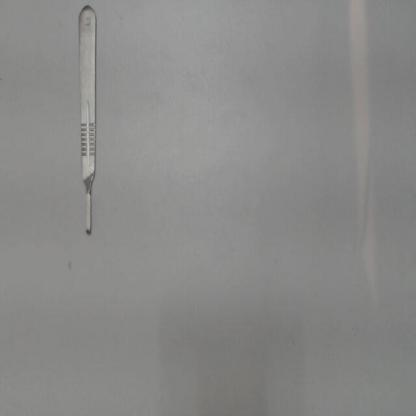No.4 BP Handle: (74, 0, 100, 241)
